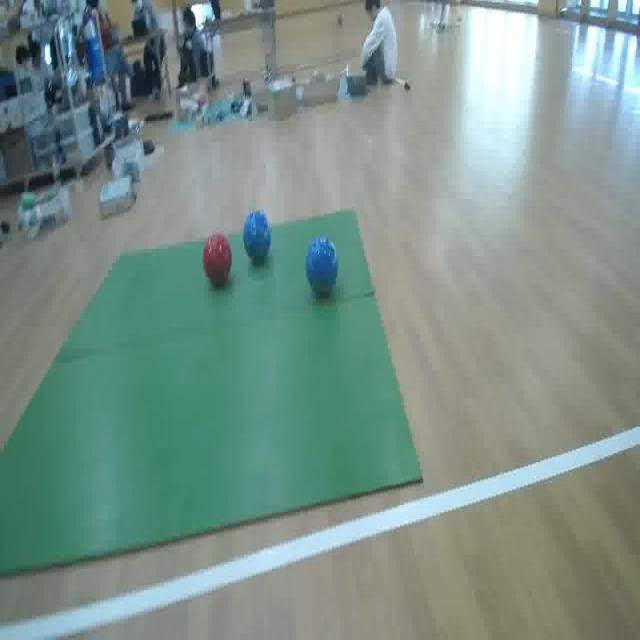blue_ball: (303, 233, 339, 304), (243, 205, 271, 265)
red_ball: (200, 232, 232, 293)
